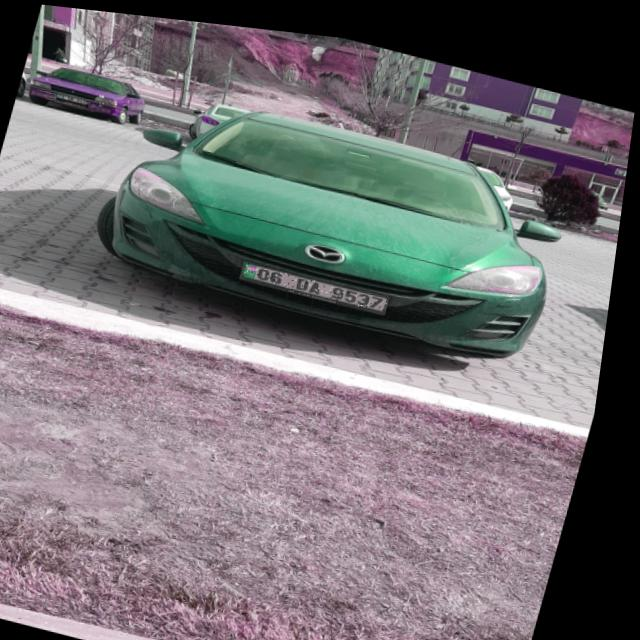plate: (245, 255, 398, 303)
